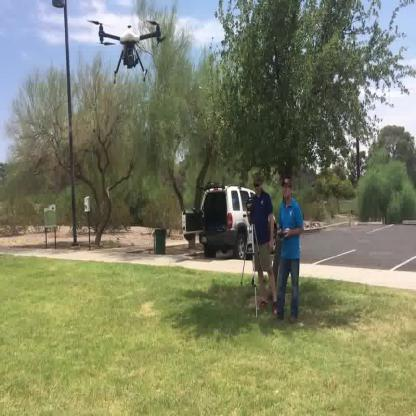drone: (88, 20, 167, 84)
